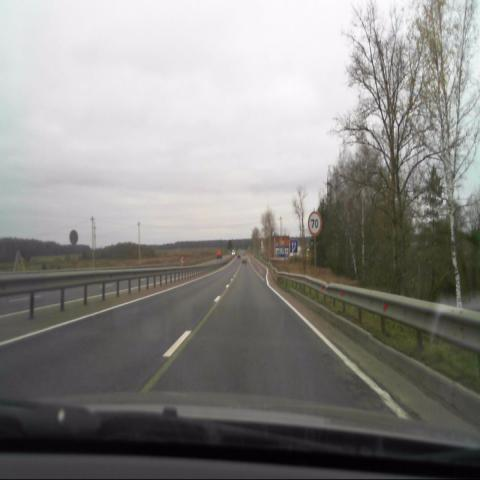3_24: (308, 210, 322, 235)
